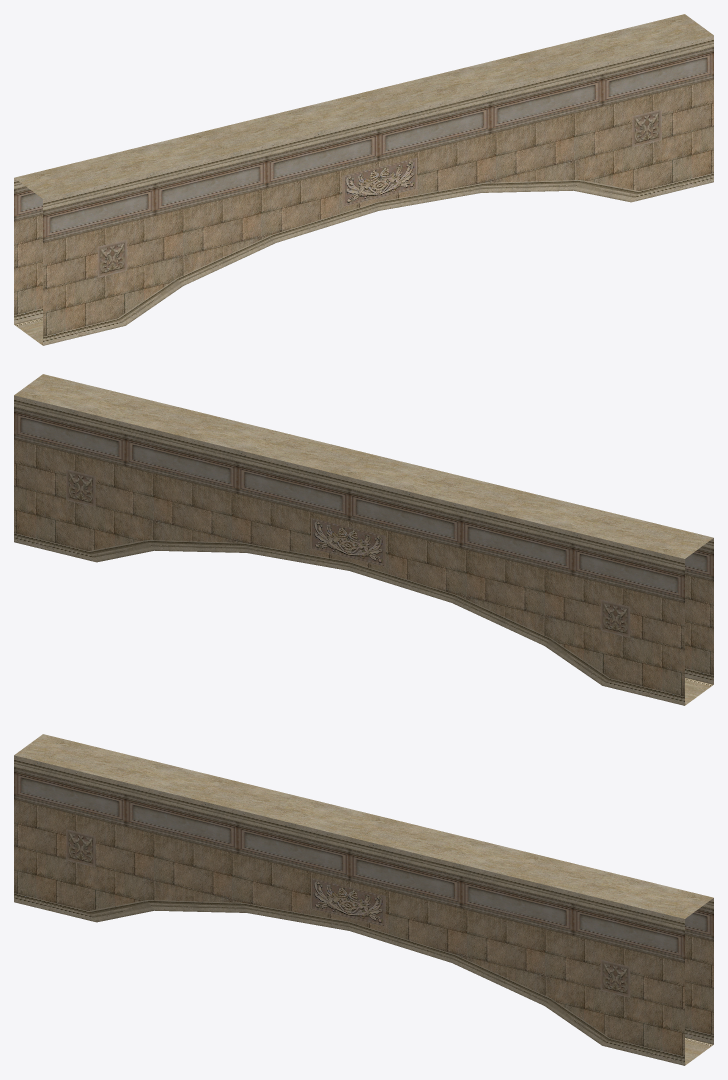
The model's file is thm_nboo_imprv_archway_wide_s02_l1.fbx.
3 renders of one model, top to bottom at view 1: azimuth 30°, elevation 25°; view 2: azimuth 150°, elevation 25°; view 3: azimuth 330°, elevation 25°, orthographic.
Visible parts, largest first — view 1: mesh_node; view 2: mesh_node; view 3: mesh_node.
Boxes of the visible parts, x1=… form: mesh_node: x1=14, y1=14, x2=713, y2=345; mesh_node: x1=14, y1=374, x2=713, y2=705; mesh_node: x1=14, y1=734, x2=713, y2=1065.
Size of the model in its own units: 16 by 3.35 by 1.31.
